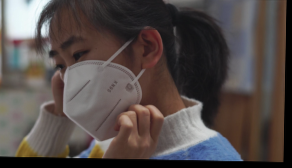with_mask: (45, 34, 143, 144)
